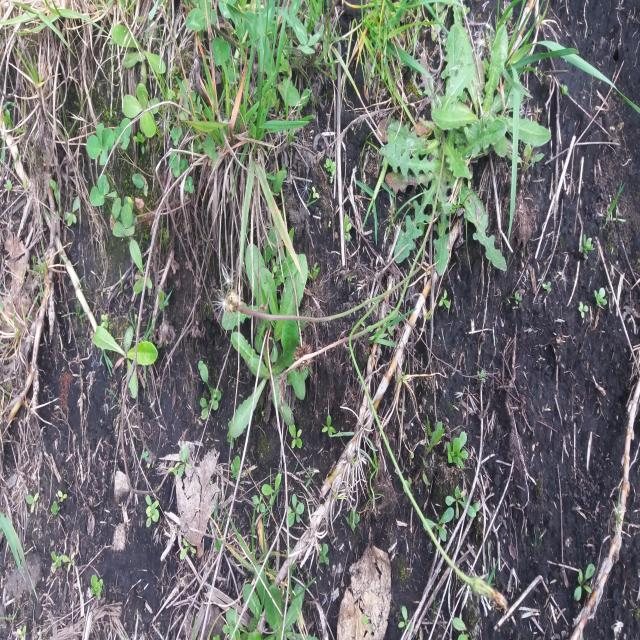Four Leaf Clover: (86, 123, 114, 165), (289, 341, 304, 373)
